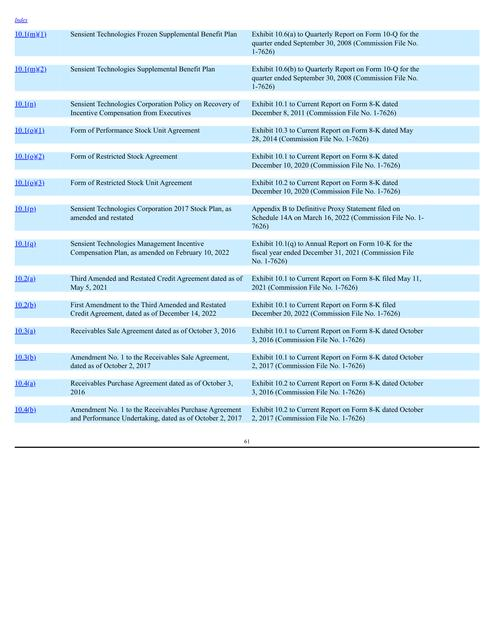box: (13, 29, 480, 425)
